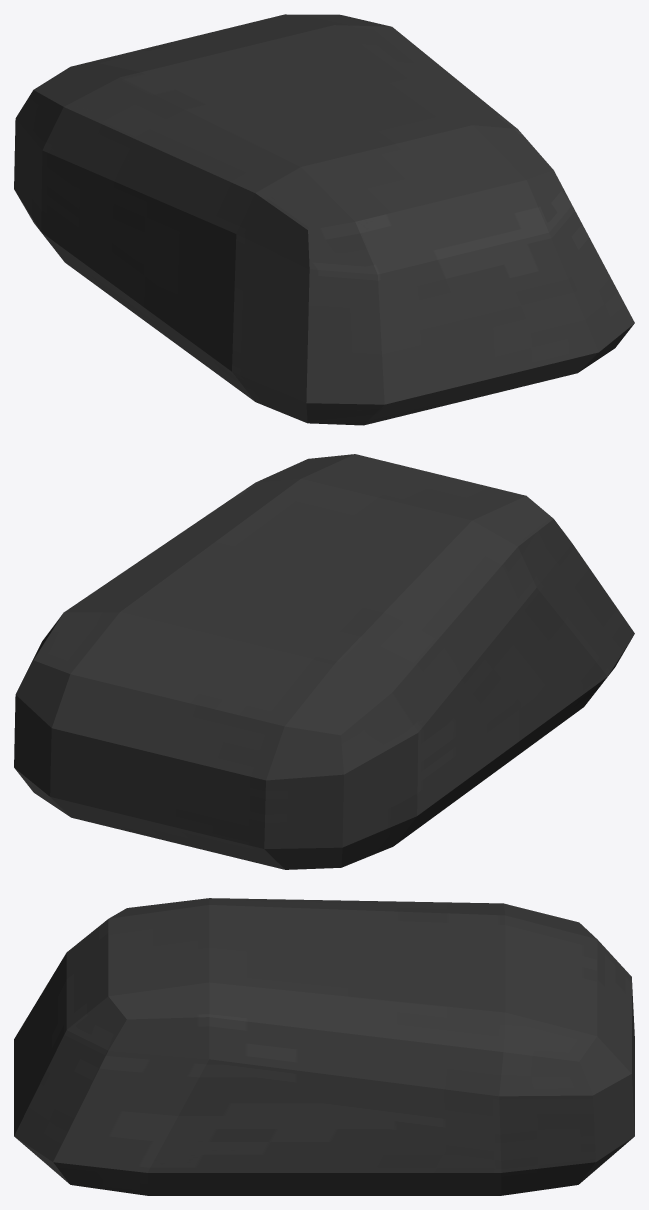
File: Мышь.fbx
The picture shows the model from 3 angles, top to bottom: view 1: azimuth 30°, elevation 25°; view 2: azimuth 150°, elevation 25°; view 3: azimuth 270°, elevation 25°; orthographic projection. The views are drawn at different scales.
Visible parts, largest first — view 1: Cube.014; view 2: Cube.014; view 3: Cube.014.
Part boxes in pixels (box(x1,y1,x2,y2)): Cube.014: box(14, 14, 634, 425); Cube.014: box(14, 454, 634, 869); Cube.014: box(14, 898, 634, 1195).
Size of the model in its own units: 47.54 by 24.98 by 73.3.
